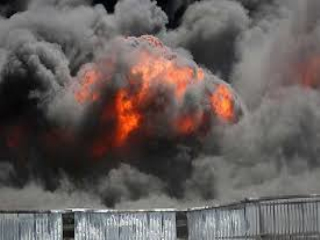smoke: (11, 11, 261, 152)
